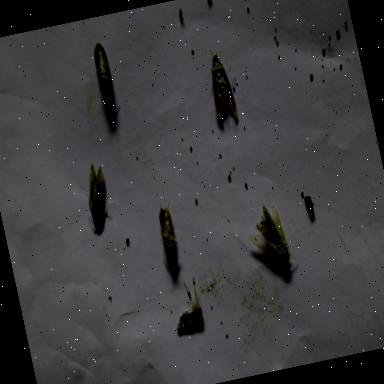pbw: (242, 200, 298, 270), (200, 38, 239, 124), (85, 34, 119, 111), (76, 160, 114, 228), (164, 272, 207, 330), (150, 200, 183, 270)
